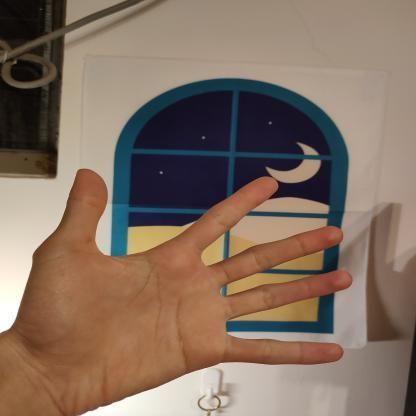bare_hand: (5, 158, 362, 416)
